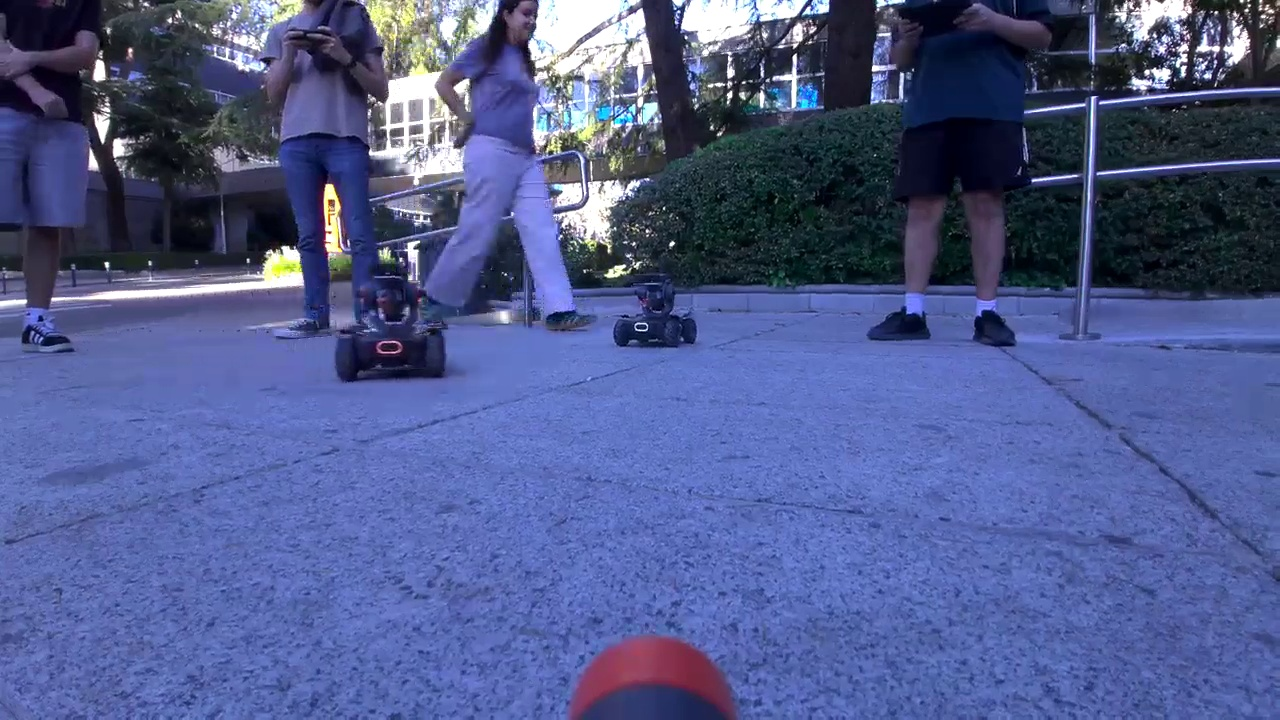robot: (335, 262, 447, 382), (612, 271, 698, 348)
